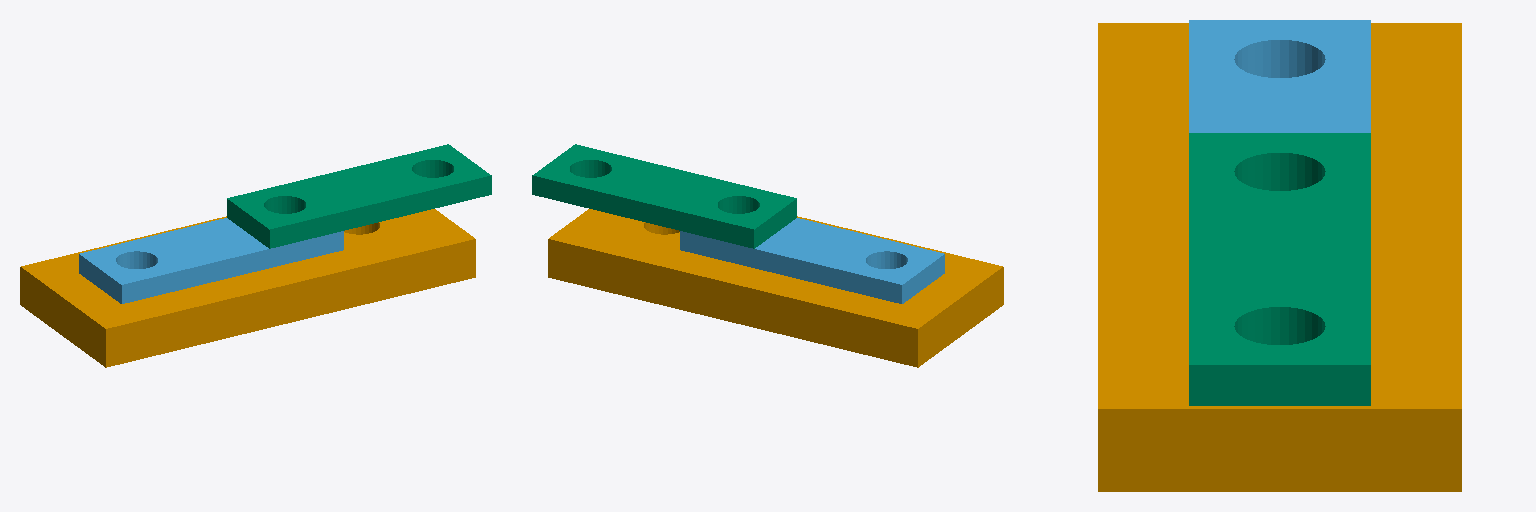
The robot description file, URDF, robot "robot":
<?xml version="1.0"?>
<!-- barocss-urdf-v1: barocss CAD Studio. SI units; each link's frame at its joint, Z on the axis; joint values 0 at the pose the mates solve to. -->
<robot name="robot">
  <link name="base">
    <inertial>
      <origin xyz="0.049999999999999954 0.01999999999999998 0.005" rpy="0 0 0"/>
      <mass value="0.10375884991765376"/>
      <inertia ixx="0.000015238149894632589" ixy="0" ixz="0" iyy="0.00008702111482052155" iyz="0" izz="0.0001005299505498599"/>
    </inertial>
    <visual>
      <origin xyz="0 0 0" rpy="0 0 0"/>
      <geometry><mesh filename="meshes/base.stl"/></geometry>
    </visual>
    <collision>
      <origin xyz="0 0 0" rpy="0 0 0"/>
      <geometry><mesh filename="meshes/base_collision.stl"/></geometry>
    </collision>
  </link>
  <link name="a">
    <inertial>
      <origin xyz="0.020000000000000035 0 0.0025" rpy="0 0 0"/>
      <mass value="0.01407942495882689"/>
      <inertia ixx="5.560785413235568e-7" ixy="0" ixz="0" iyy="0.000004027848524854294" iyz="0" izz="0.000004525262795516072"/>
    </inertial>
    <visual>
      <origin xyz="0 0 0" rpy="0 0 0"/>
      <geometry><mesh filename="meshes/a.stl"/></geometry>
    </visual>
    <collision>
      <origin xyz="0 0 0" rpy="0 0 0"/>
      <geometry><mesh filename="meshes/a_collision.stl"/></geometry>
    </collision>
  </link>
  <link name="b">
    <inertial>
      <origin xyz="0.02000000000000005 0 0.0025" rpy="0 0 0"/>
      <mass value="0.01407942495882689"/>
      <inertia ixx="5.560785413235568e-7" ixy="0" ixz="0" iyy="0.000004027848524854294" iyz="0" izz="0.000004525262795516072"/>
    </inertial>
    <visual>
      <origin xyz="0 0 0" rpy="0 0 0"/>
      <geometry><mesh filename="meshes/b.stl"/></geometry>
    </visual>
    <collision>
      <origin xyz="0 0 0" rpy="0 0 0"/>
      <geometry><mesh filename="meshes/b_collision.stl"/></geometry>
    </collision>
  </link>
  <joint name="base_to_a" type="continuous">
    <parent link="base"/>
    <child link="a"/>
    <origin xyz="0.019999999999999993 0.02 0.01" rpy="0 0 0"/>
    <axis xyz="0 0 1"/>
  </joint>
  <joint name="a_to_b" type="continuous">
    <parent link="a"/>
    <child link="b"/>
    <origin xyz="0.03999999999999999 0 0.005" rpy="0 0 0"/>
    <axis xyz="0 0 0.9999999999999999"/>
  </joint>
</robot>

--- Facts derived from the render (not from the file) ---
The picture shows the robot from 3 angles, left to right: view 1: azimuth 30°, elevation 25°; view 2: azimuth 150°, elevation 25°; view 3: azimuth 270°, elevation 25°; orthographic projection.
Robot: robot — 3 links, 2 joints (2 continuous); root link base; default pose: every joint at zero.
Visible links, largest first — view 1: base, b, a; view 2: base, b, a; view 3: base, b, a.
Boxes of the visible links, x1,y1,x2,y2 form: base: (20, 209, 475, 367); b: (227, 144, 491, 248); a: (79, 218, 343, 303); base: (548, 209, 1003, 367); b: (532, 144, 796, 248); a: (680, 218, 944, 303); base: (1098, 23, 1461, 491); b: (1189, 133, 1370, 405); a: (1189, 20, 1370, 132).
Size in the robot's own frame: 0.11 by 0.04 by 0.02 metres.
3 mesh visuals loaded from 3 distinct referenced files (3 binary STL).
